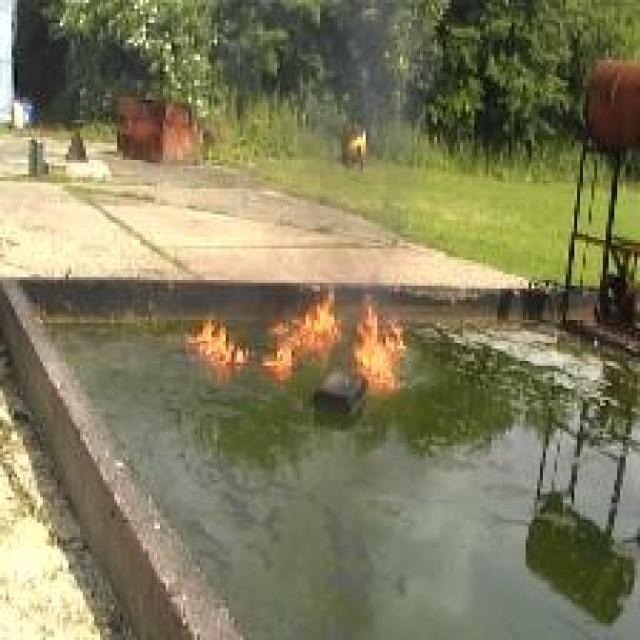Fire: (266, 288, 343, 378), (356, 294, 410, 392), (187, 320, 250, 374)
